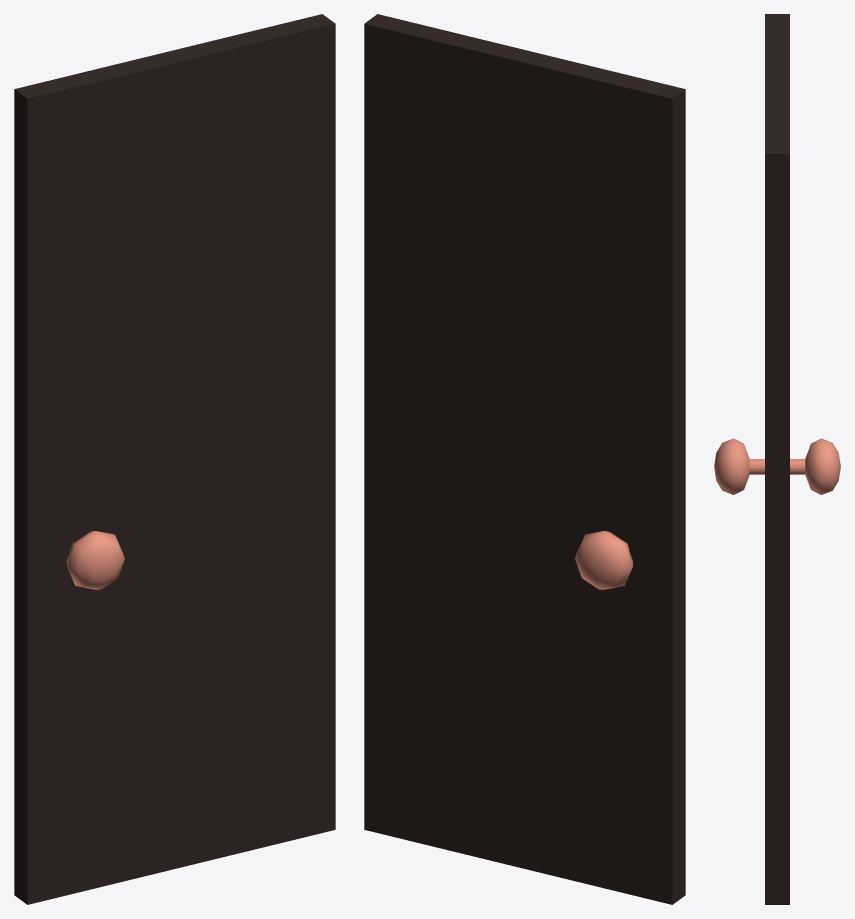
The model's file is Door Interior.fbx.
3 views of the same model, side by side, from view 1: azimuth 30°, elevation 25°; view 2: azimuth 150°, elevation 25°; view 3: azimuth 270°, elevation 25° (orthographic). The views are drawn at different scales.
Parts seen in each view (by area): view 1: Door_Internal; view 2: Door_Internal; view 3: Door_Internal.
Part boxes in pixels (x1,y1,x2,y2): Door_Internal: [14, 14, 335, 904]; Door_Internal: [364, 14, 685, 904]; Door_Internal: [714, 14, 840, 904].
Size of the model in its own units: 80 by 200 by 30.61.
